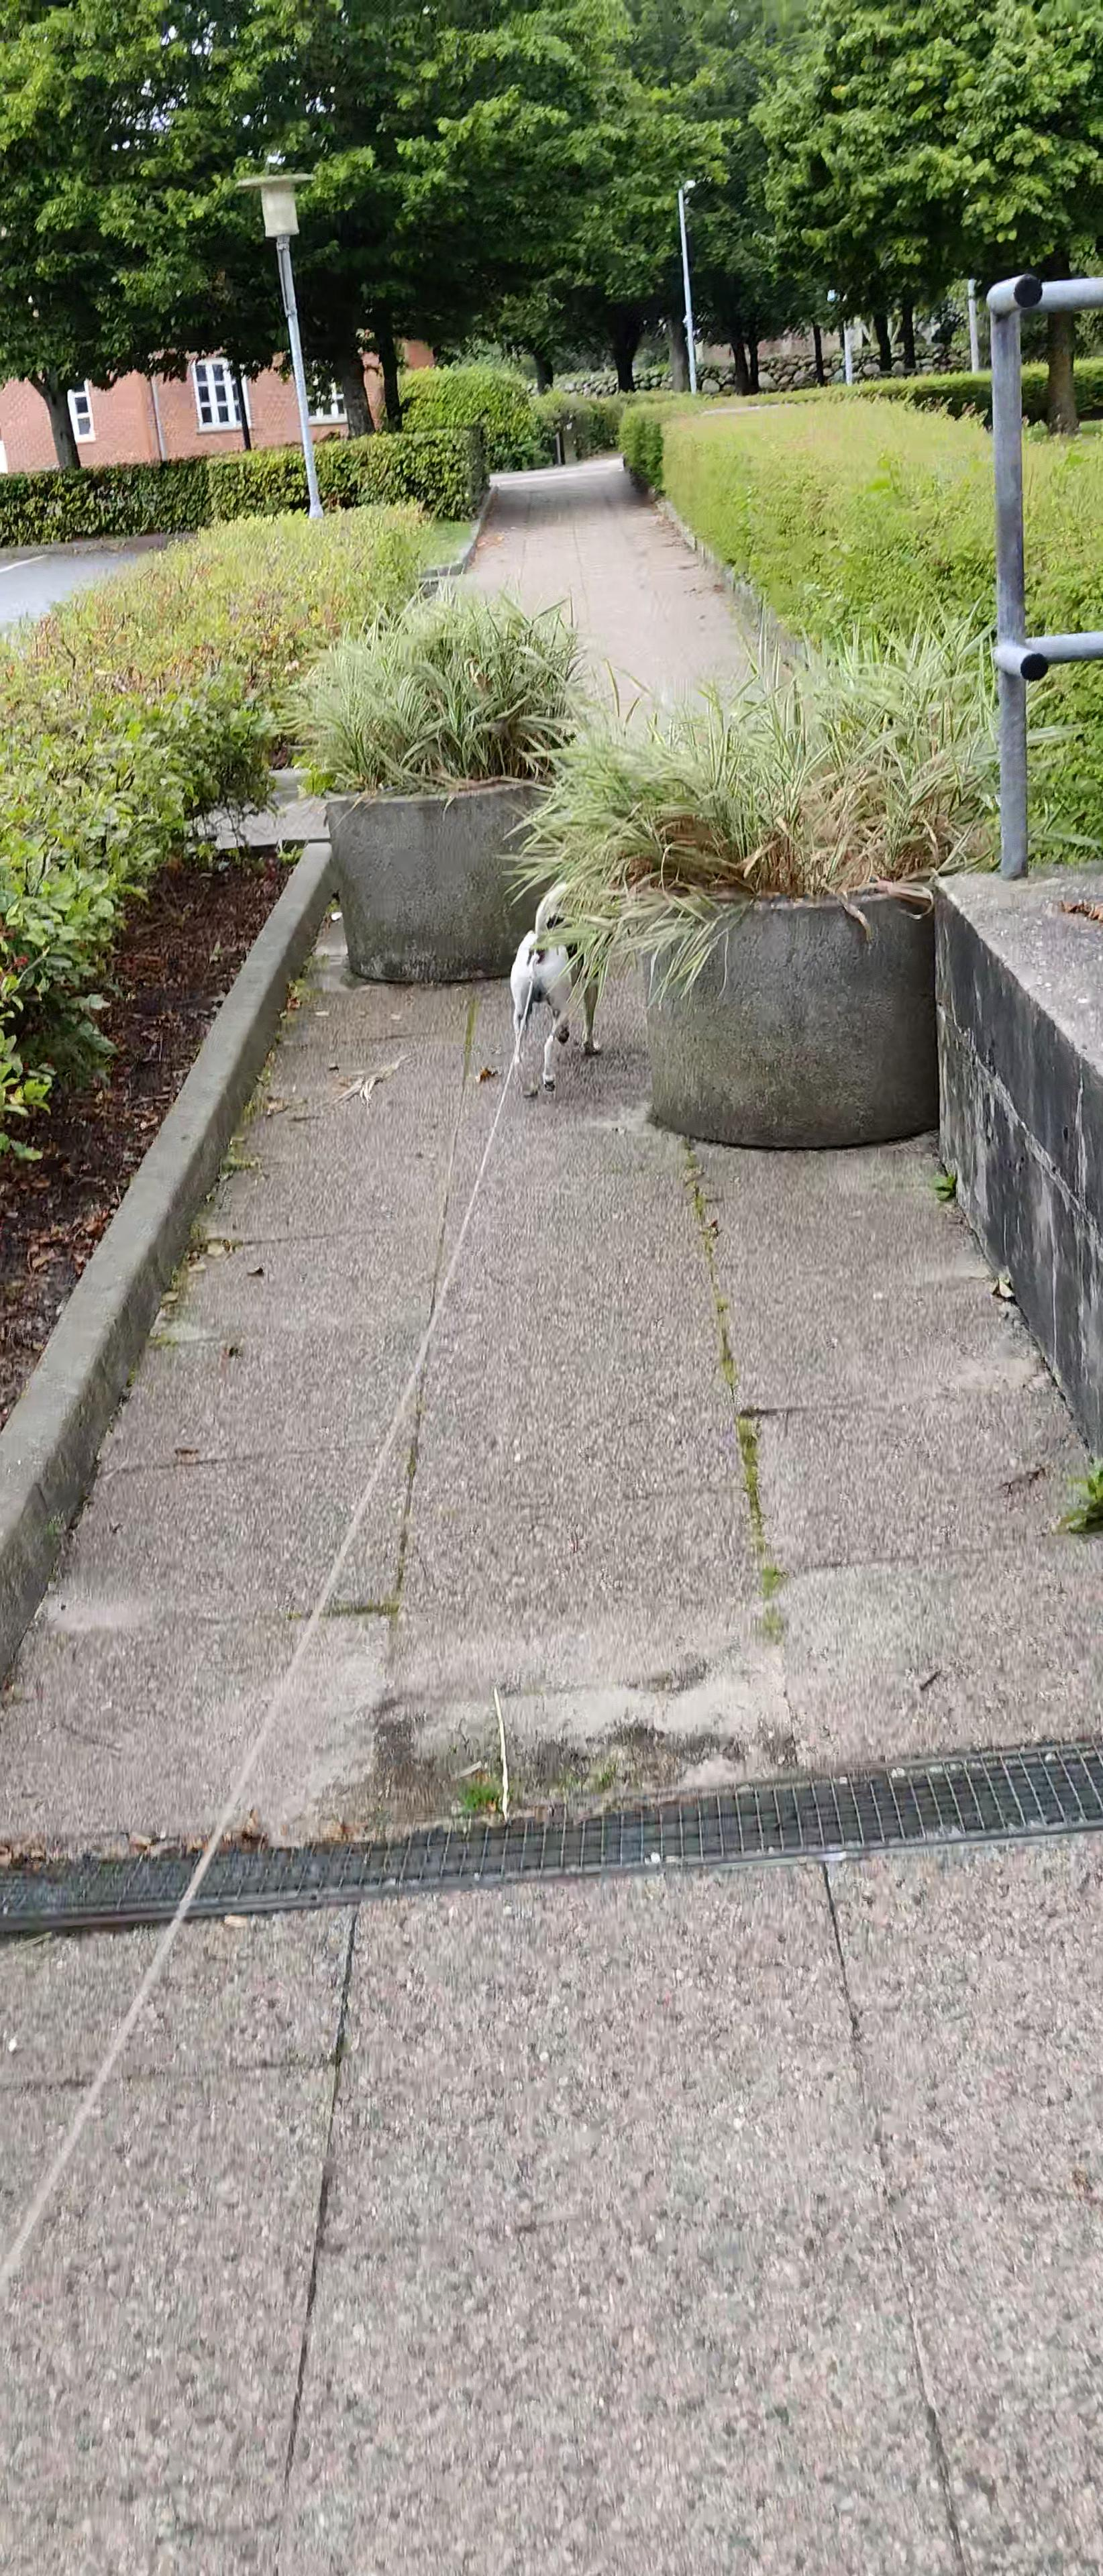Dog: (505, 879, 621, 1102)
